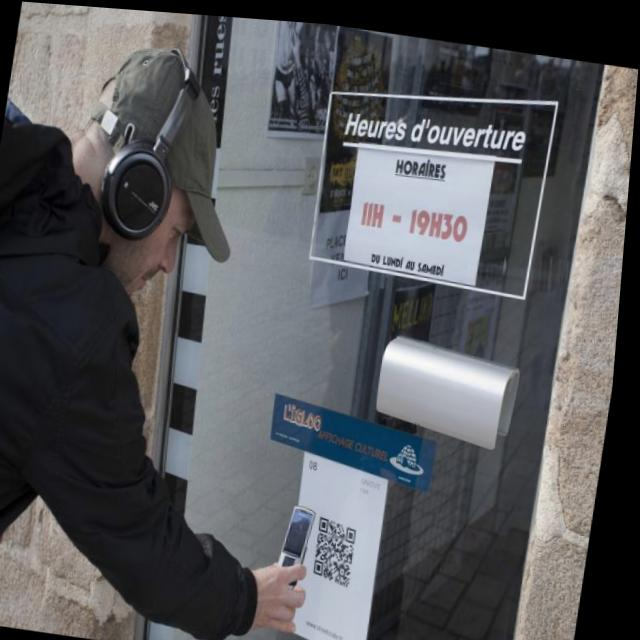qrcode: (320, 511, 368, 583)
